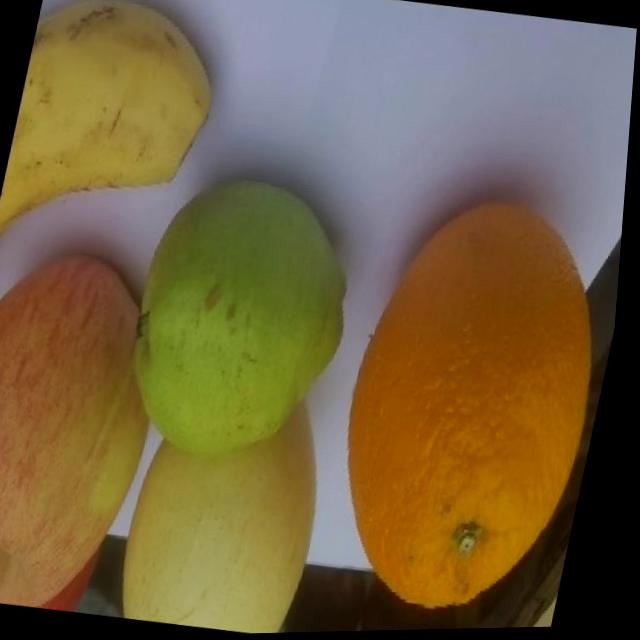Apple: (0, 239, 189, 618)
Banana: (0, 0, 231, 269)
Orange: (317, 185, 629, 628)
